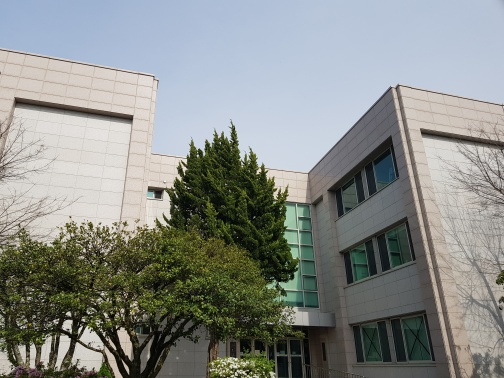College of Nursing: (12, 53, 493, 362)
